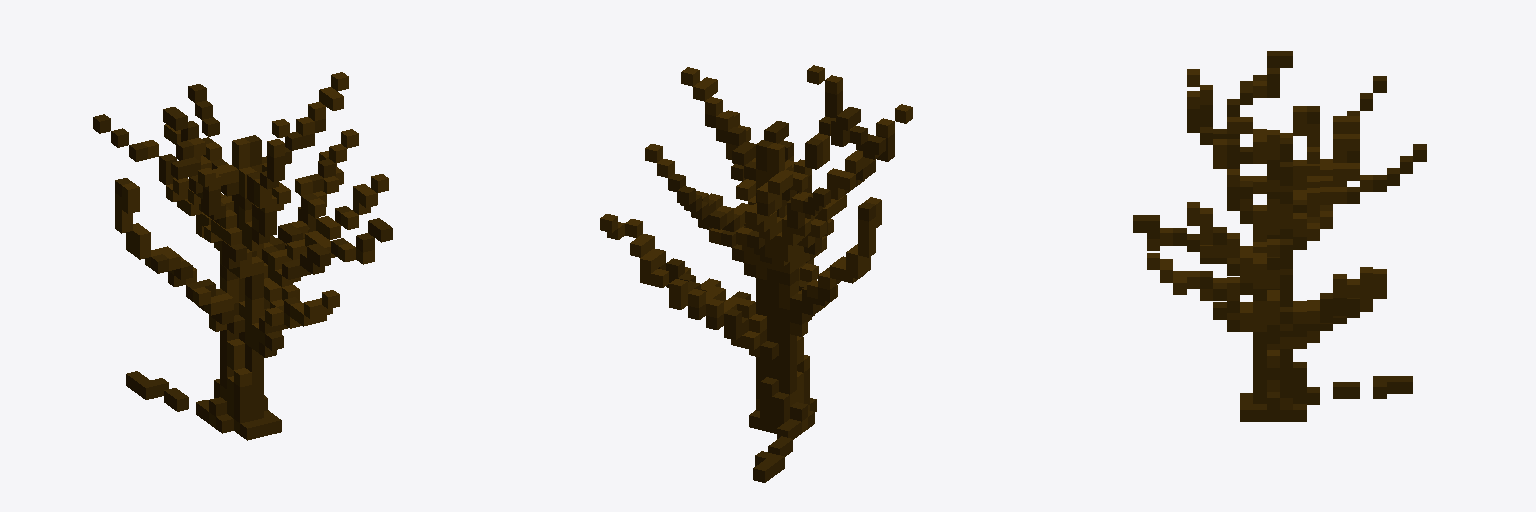
3 views of the same model, side by side, from view 1: azimuth 30°, elevation 25°; view 2: azimuth 150°, elevation 25°; view 3: azimuth 270°, elevation 25° (orthographic).
Parts seen in each view (by area): view 1: Voxelized_drytree1; view 2: Voxelized_drytree1; view 3: Voxelized_drytree1.
Part boxes in pixels (bbox=[...]): Voxelized_drytree1: bbox=[93, 72, 392, 440]; Voxelized_drytree1: bbox=[600, 65, 912, 482]; Voxelized_drytree1: bbox=[1133, 51, 1426, 421].
Size of the model in its own units: 21 by 27 by 22.
Materials: 1 (1 with a texture image).